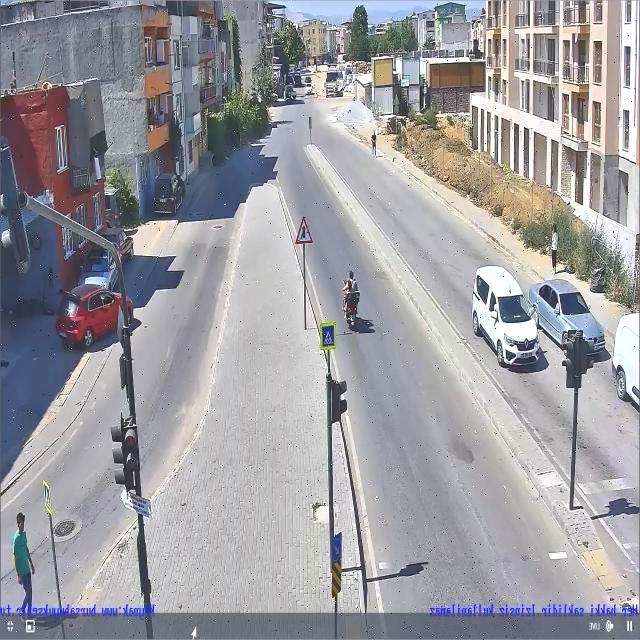Car: (527, 271, 605, 356), (55, 285, 137, 348), (154, 172, 188, 215), (98, 226, 139, 261)
Cycle: (323, 270, 381, 336)
Van: (468, 264, 538, 370), (605, 311, 640, 407)
